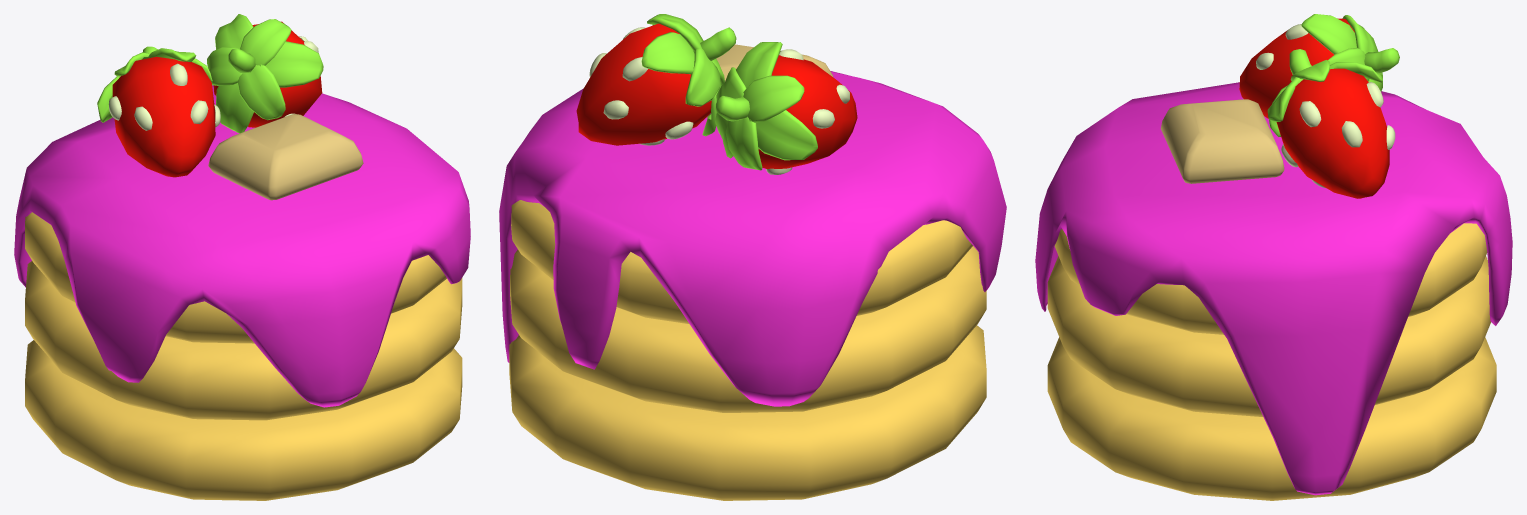
File: SM_Pancake.fbx
3 renders of one model, left to right at view 1: azimuth 30°, elevation 25°; view 2: azimuth 150°, elevation 25°; view 3: azimuth 270°, elevation 25°, orthographic. The views are drawn at different scales.
Parts seen in each view (by area): view 1: SM_Pancake; view 2: SM_Pancake; view 3: SM_Pancake.
Boxes of the visible parts, x1=… form: SM_Pancake: x1=14, y1=14, x2=470, y2=500; SM_Pancake: x1=499, y1=14, x2=1006, y2=500; SM_Pancake: x1=1035, y1=14, x2=1512, y2=500.
Bounding box in the file's own units: 113 × 105 × 116.
